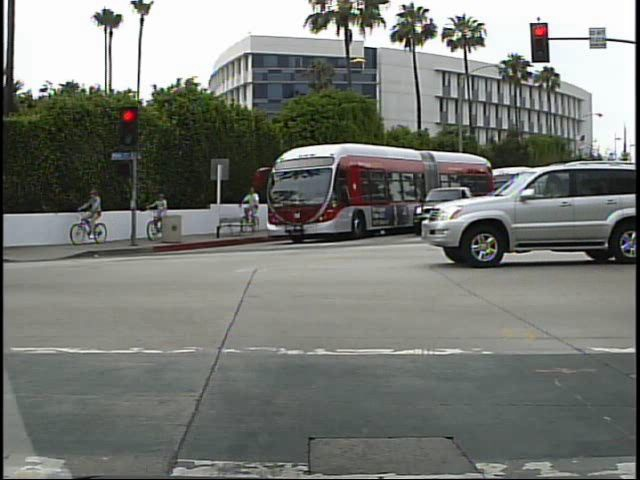person: (143, 191, 171, 243)
